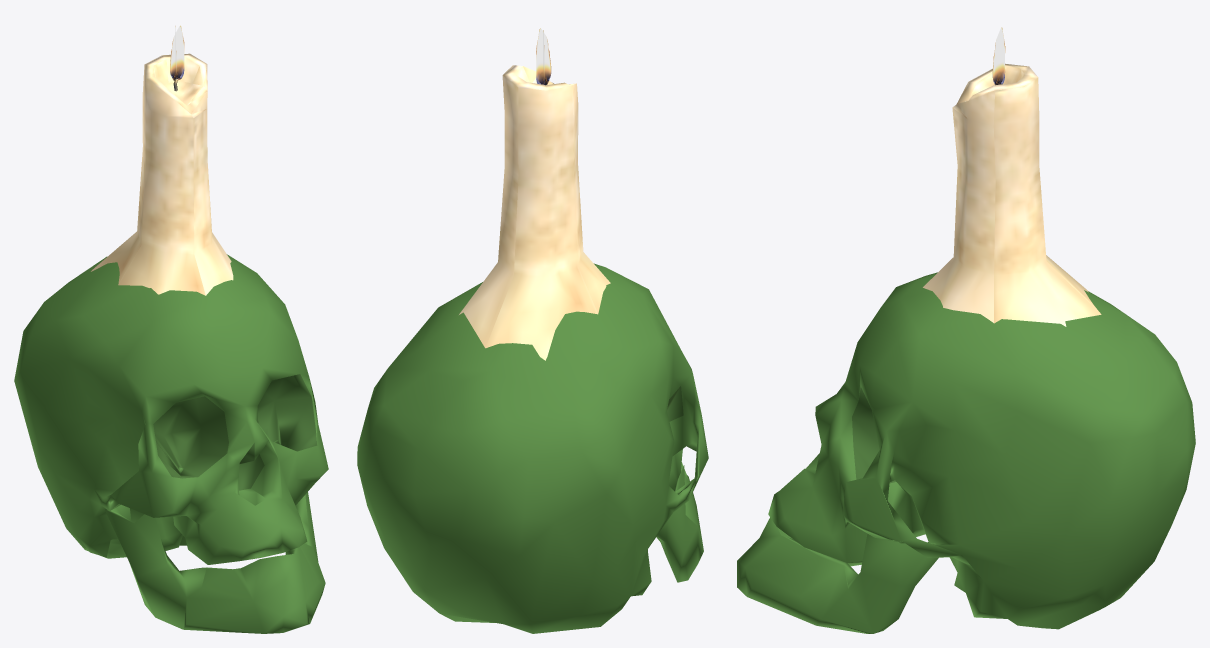
Rendered from CandleSkullShapeA.006.glb.
The picture shows the model from 3 angles, left to right: view 1: azimuth 30°, elevation 25°; view 2: azimuth 150°, elevation 25°; view 3: azimuth 270°, elevation 25°; orthographic projection. The views are drawn at different scales.
Visible parts, largest first — view 1: CandleSkullShapeA.006; view 2: CandleSkullShapeA.006; view 3: CandleSkullShapeA.006.
Boxes of the visible parts, box(x1,y1,x2,y2) form: CandleSkullShapeA.006: box(14, 25, 328, 633); CandleSkullShapeA.006: box(357, 28, 708, 633); CandleSkullShapeA.006: box(737, 27, 1195, 633).
Bounding box in the file's own units: 0.2005 × 0.4386 × 0.3132.
2 materials, 2 textured.
